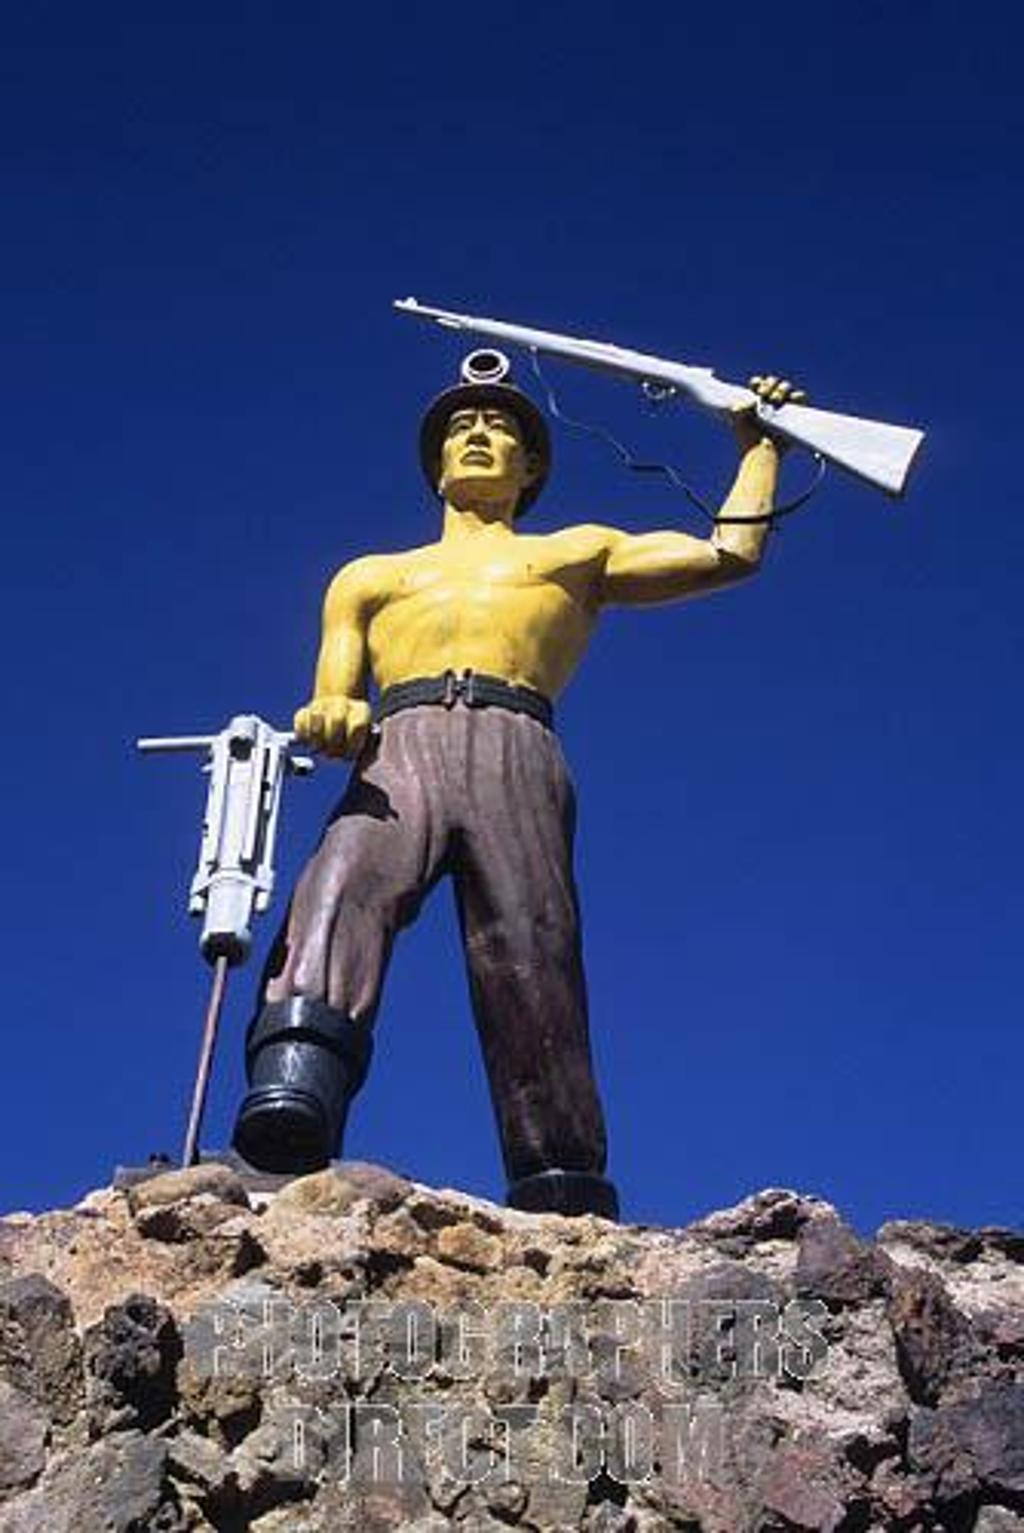face: (446, 371, 524, 488)
